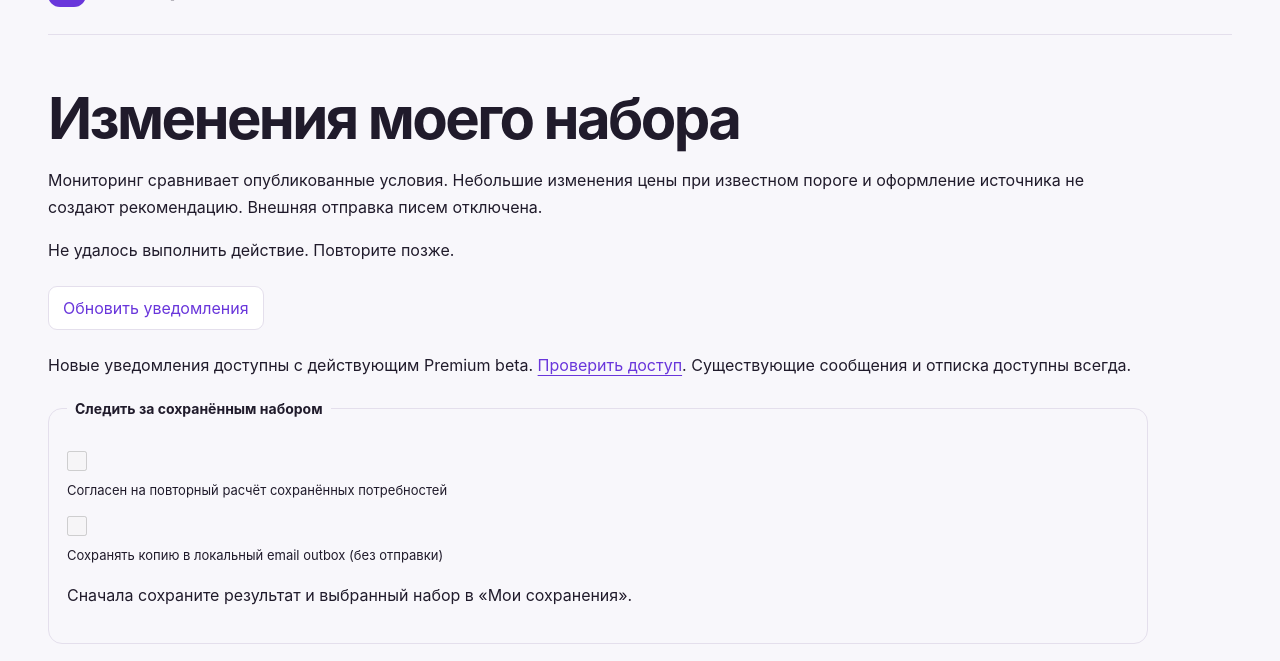
Test: inbox recovers from server failure
Expected: the message "Не удалось выполнить действие. Повторите позже." is shown, [48,240,454,260]
What coordinates should you click on to do the following:
click the button "Обновить уведомления"
I would click on:
 (156, 308)
Its box is [48,286,264,330].
(page scrolled)
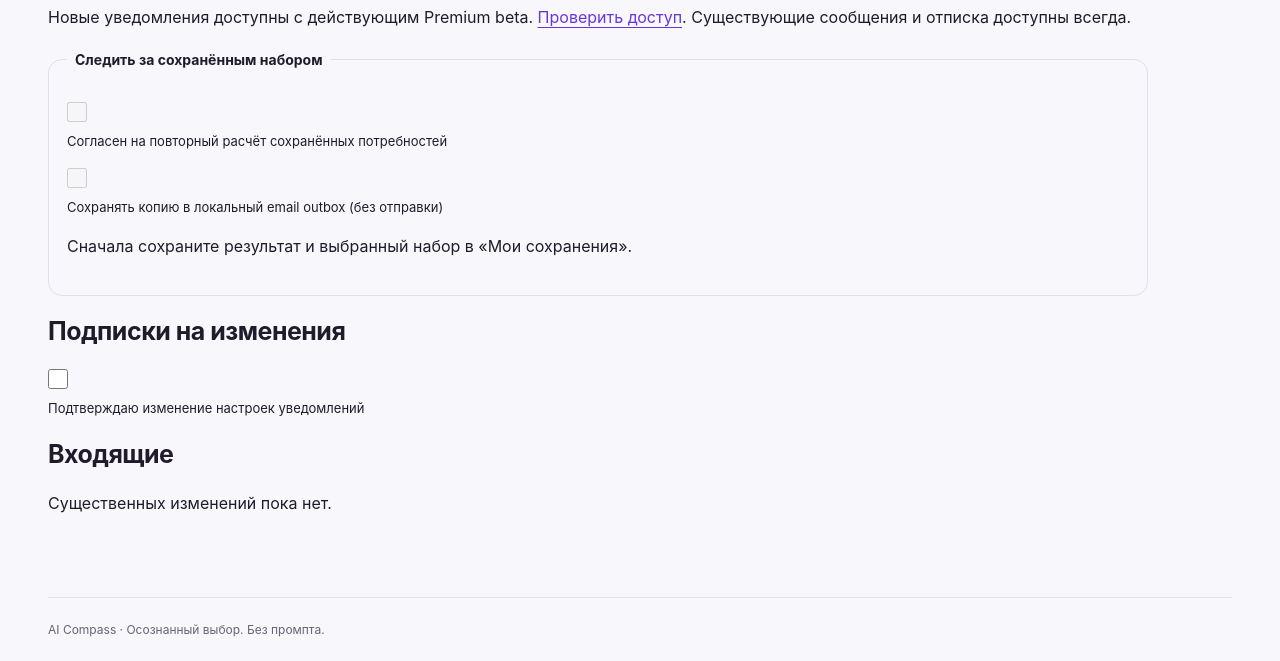
Now the text "Существенных изменений пока нет." is shown, box [48,493,332,513]
